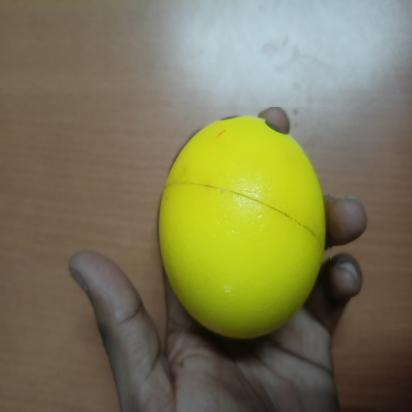Yellowball: (151, 108, 330, 346)
